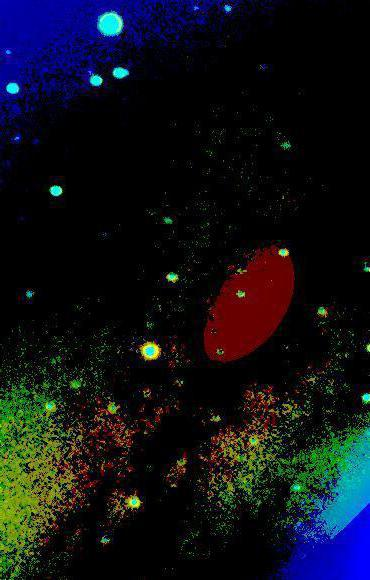star: (116, 225, 146, 255)
